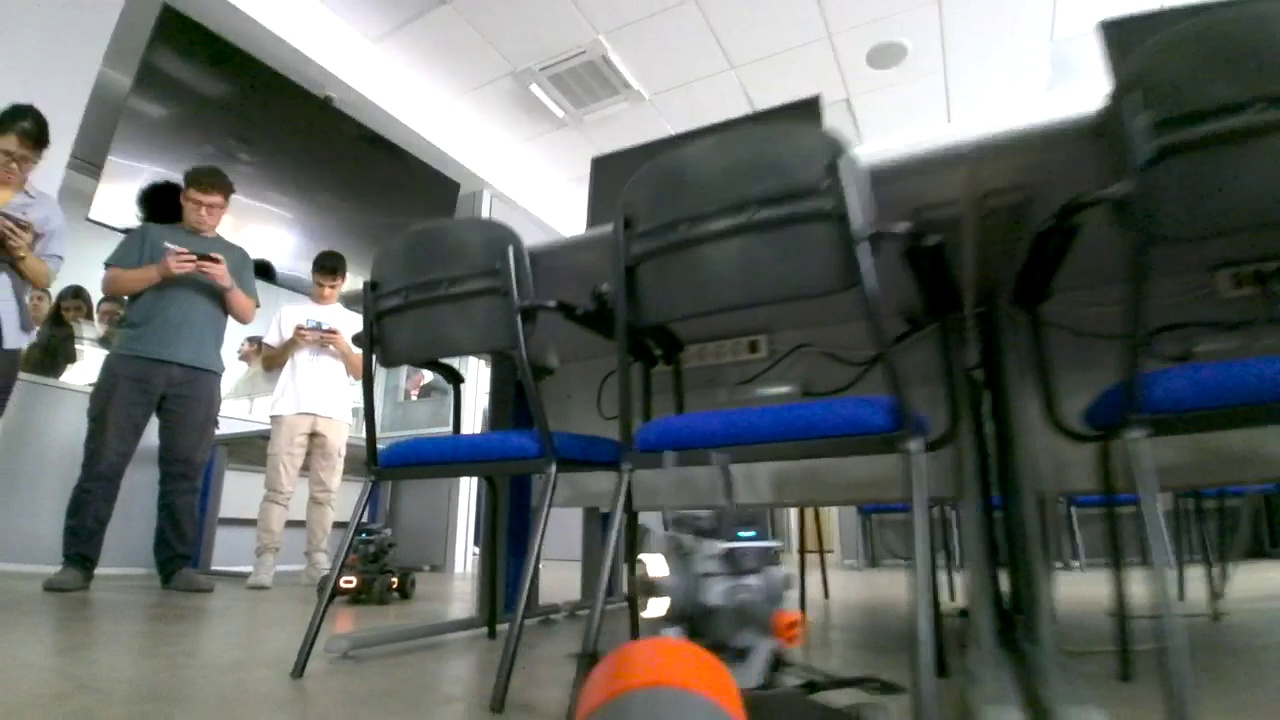robot: (614, 449, 904, 720), (317, 507, 414, 603)
